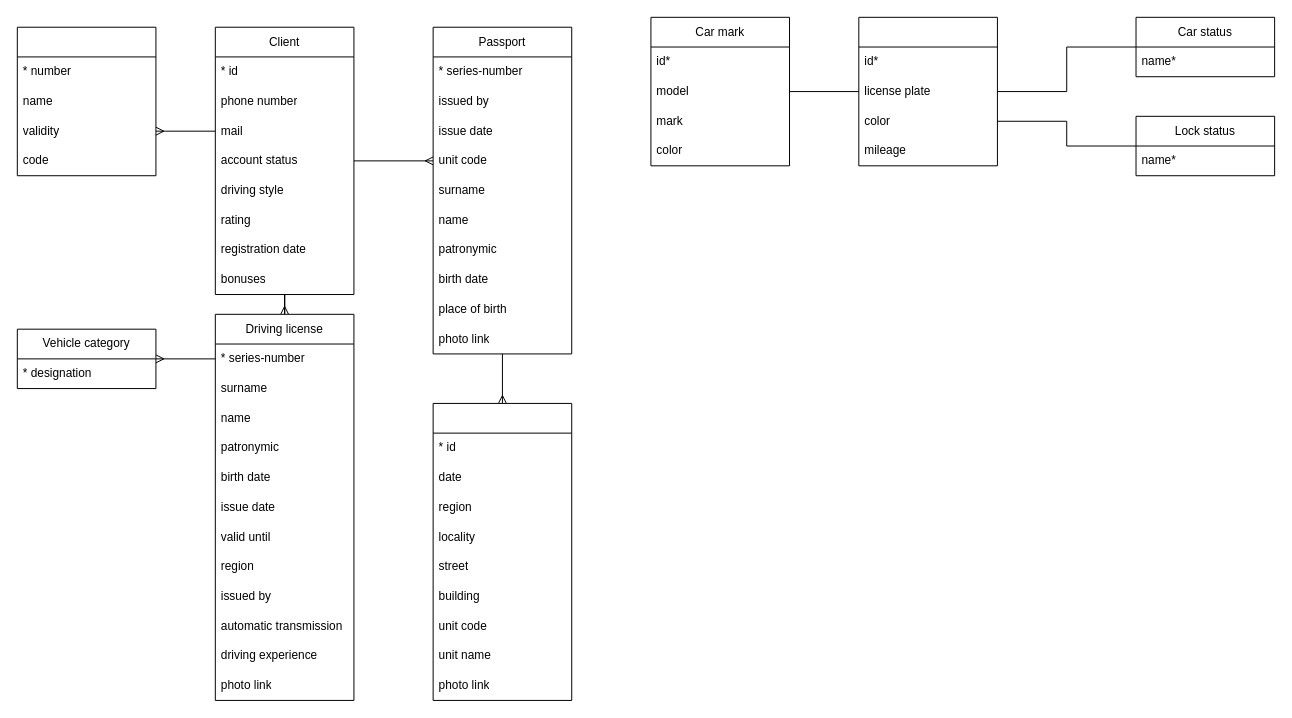
This 1292x718 diagram has some shape labels left out. Each missing label, with the box of its shape:
Bank card: (16, 26, 156, 176)
Car: (858, 16, 997, 166)
Registration: (432, 402, 572, 700)
